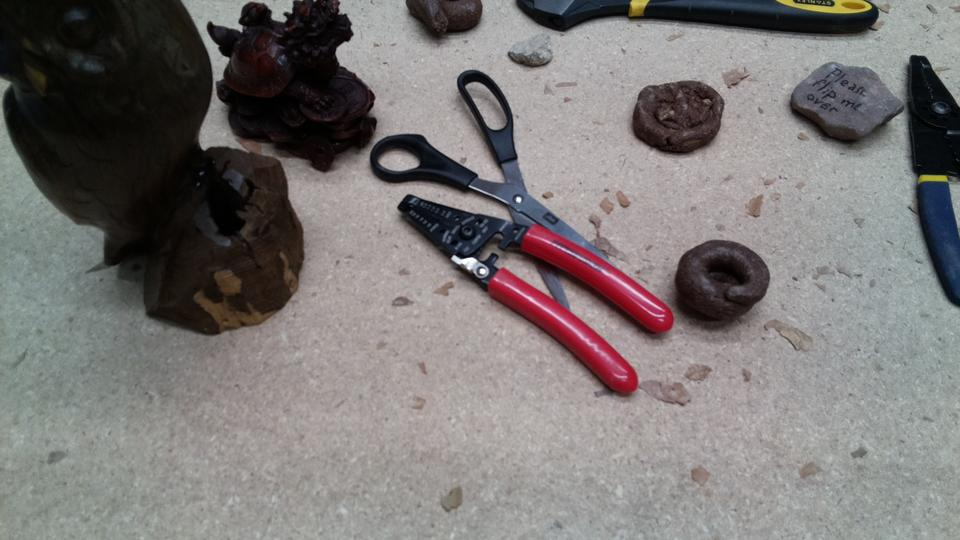poop: (672, 235, 773, 327), (627, 78, 730, 155), (401, 1, 487, 40)
